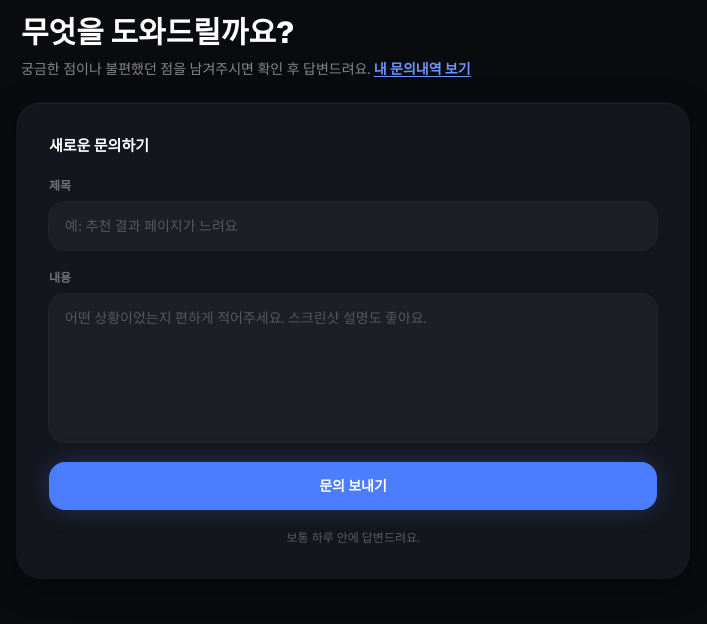
Test: /support 문의 제출 › 내용이 10자 미만이면 제출하지 않고 에러 문구를 보여준다
The image size is (707, 624).
Step 1. Type "제목입니다" into the field labelled "제목" → (353,226), box [49,202,657,250]
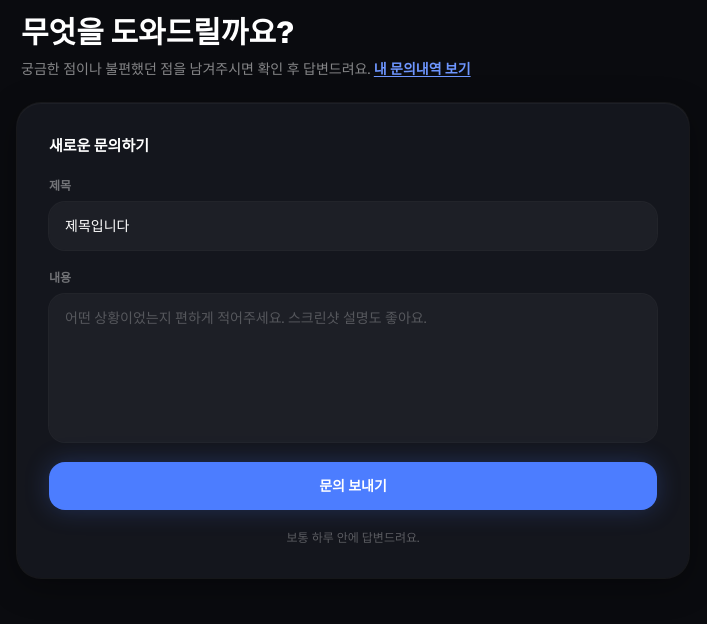
Step 2. Type "짧음" into the text box labelled "내용" → (353,368), box [49,294,657,442]
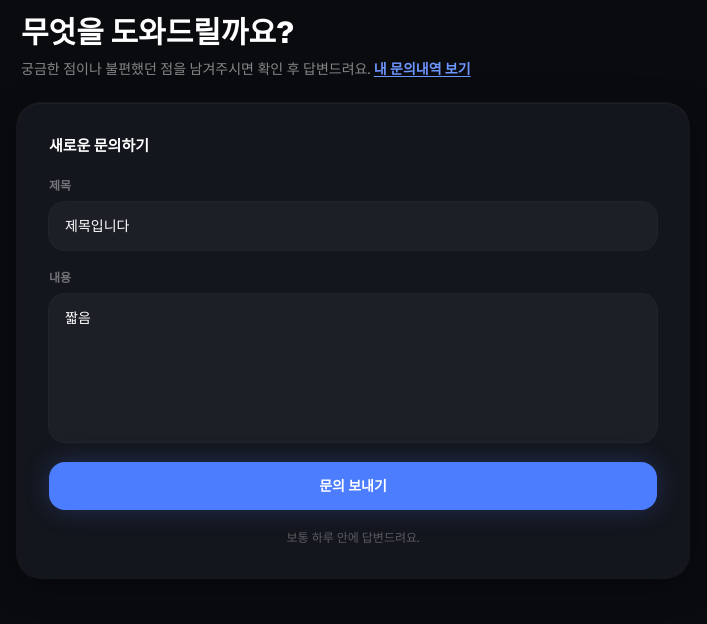
Step 3. Click the button "문의 보내기" → (353,486), box [49,462,657,510]
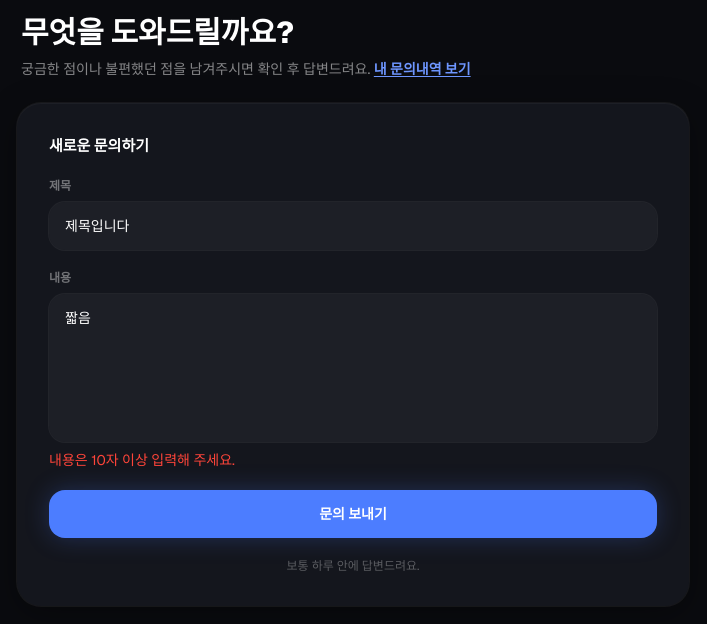
Check: the text "내용은 10자 이상 입력해 주세요." is shown, box [49,450,235,468]
